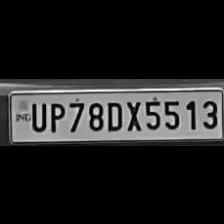1: (182, 97, 198, 129)
3: (198, 96, 218, 130)
5: (161, 96, 181, 130), (142, 96, 160, 130)
7: (64, 98, 84, 132)
8: (84, 98, 104, 132)
D: (104, 97, 124, 131)
P: (46, 98, 66, 132)
U: (27, 99, 47, 131)
X: (124, 96, 142, 132)
